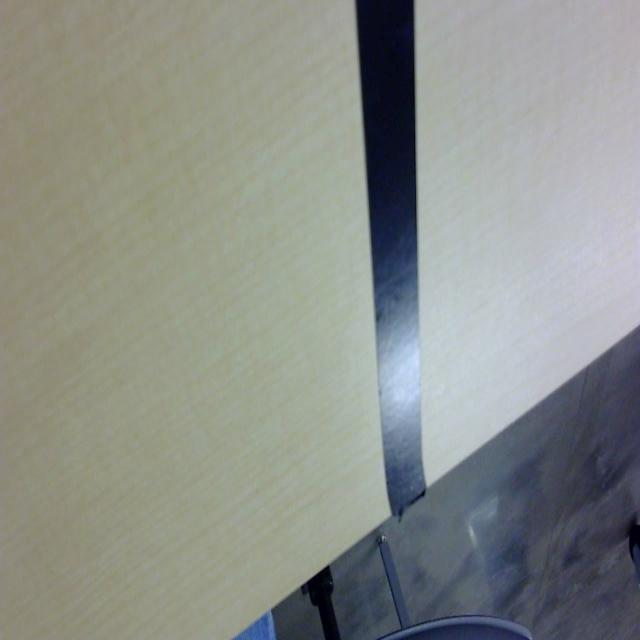tape: (343, 0, 442, 558)
